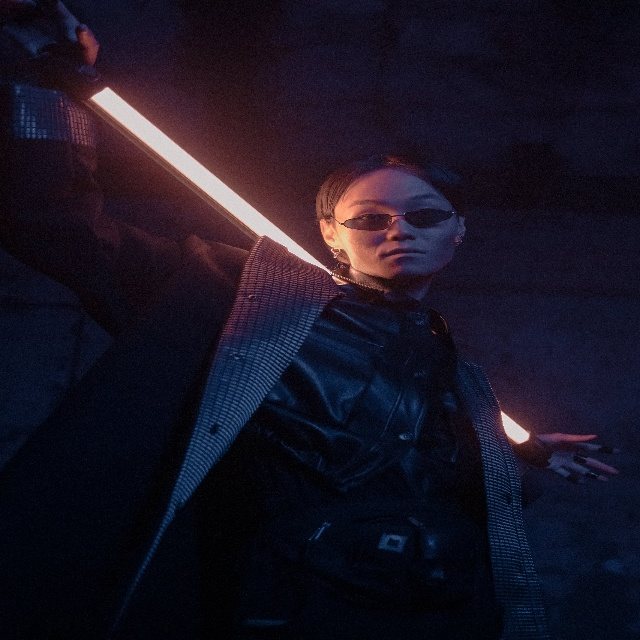Gafas: (341, 214, 455, 238)
Sin_guantes: (0, 0, 97, 64), (535, 419, 619, 486)
